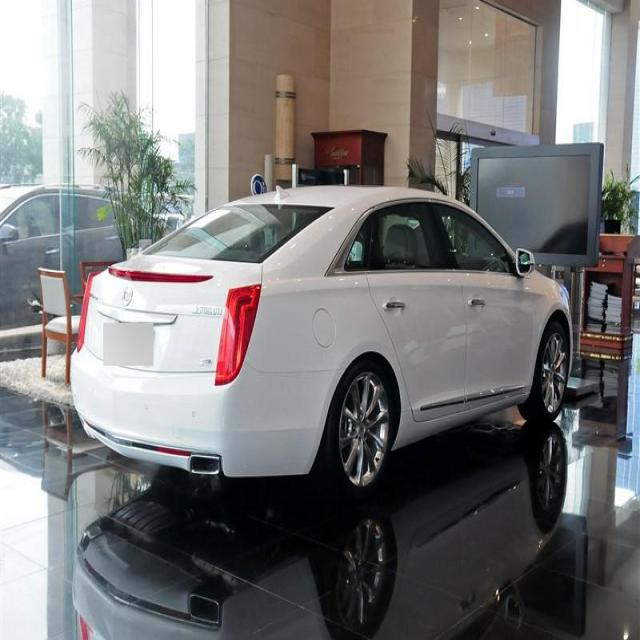back_glass: (138, 201, 334, 265)
back_left_side_light: (76, 270, 100, 353)
back_right_side_light: (214, 282, 263, 388)
door: (326, 197, 470, 411)
front_right_side_door: (433, 196, 539, 417)
front_right_side_mirror: (514, 246, 537, 280)
rear_bumper: (68, 341, 343, 482)
wheel: (320, 361, 395, 493), (517, 319, 573, 421)
